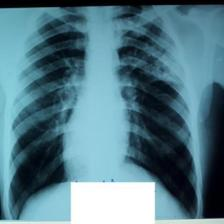tuberculosis: (5, 9, 202, 224)
